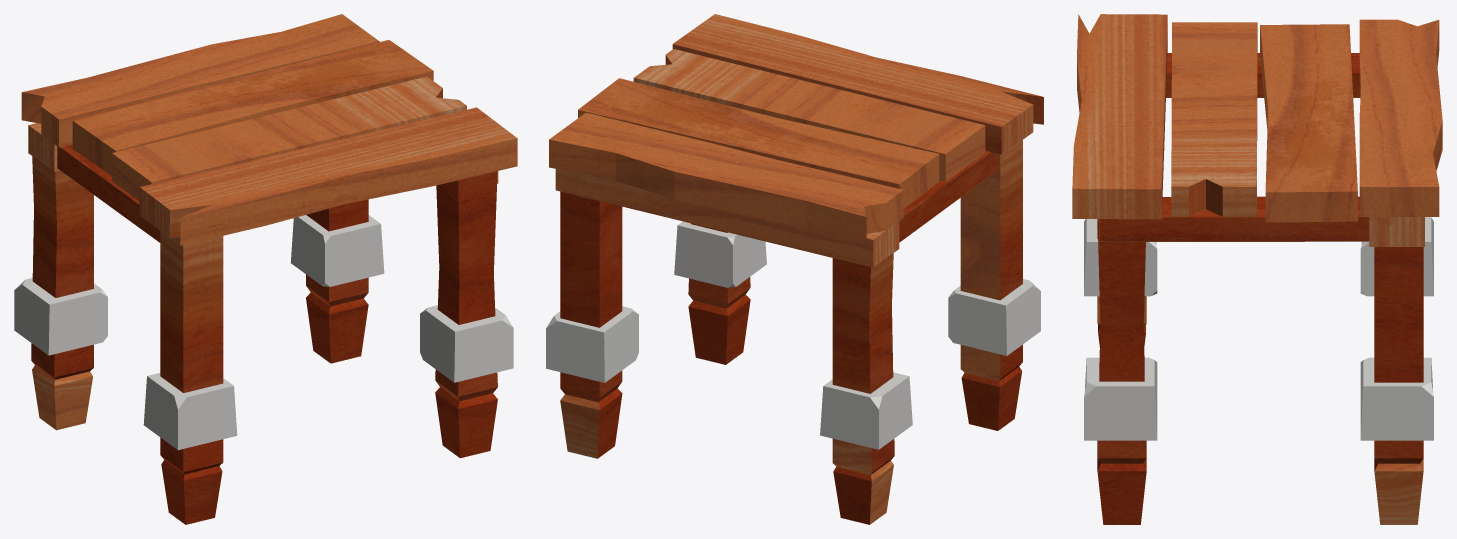
The model's file is Table Textured.fbx.
3 views of the same model, side by side, from view 1: azimuth 30°, elevation 25°; view 2: azimuth 150°, elevation 25°; view 3: azimuth 270°, elevation 25° (orthographic). The views are drawn at different scales.
Visible parts, largest first — view 1: Cube.007, Cube.001; view 2: Cube.007, Cube.001; view 3: Cube.007, Cube.001.
Boxes of the visible parts, x1=… form: Cube.007: x1=21, y1=14, x2=517, y2=524; Cube.001: x1=14, y1=215, x2=513, y2=450; Cube.007: x1=549, y1=14, x2=1043, y2=524; Cube.001: x1=546, y1=221, x2=1040, y2=449; Cube.007: x1=1072, y1=14, x2=1442, y2=524; Cube.001: x1=1084, y1=217, x2=1433, y2=440.
Bounding box in the file's own units: 245 × 220 × 215.
